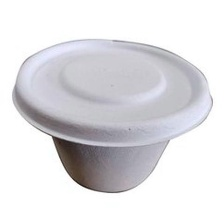plastic_box: (5, 27, 217, 200)
